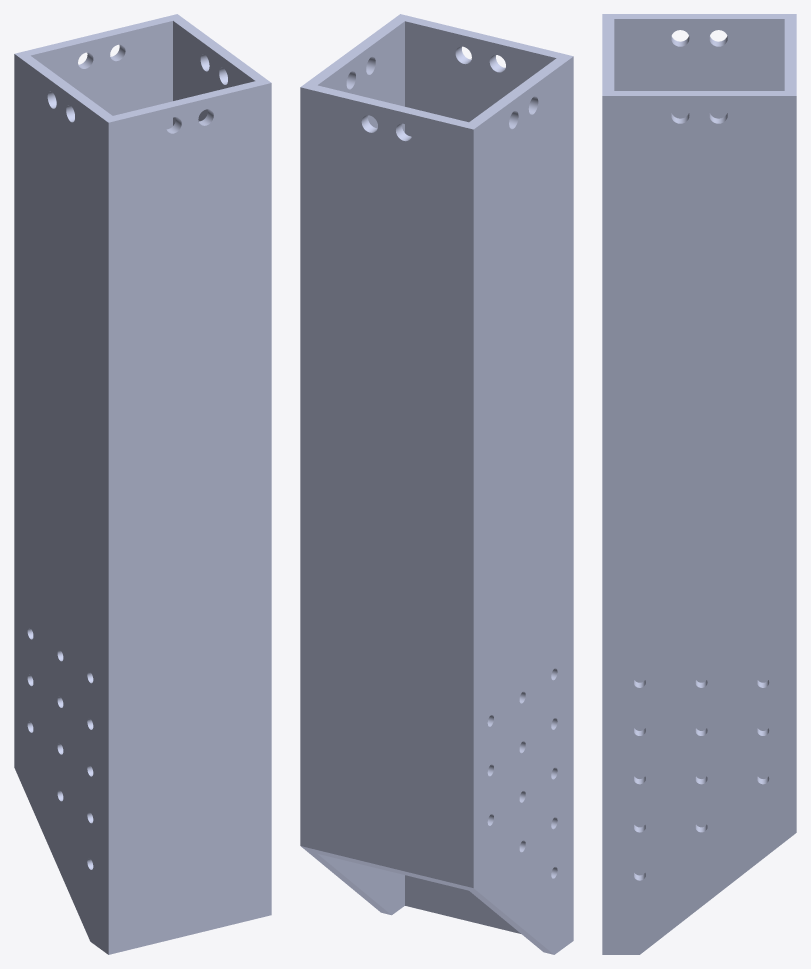
The picture shows the model from 3 angles, left to right: view 1: azimuth 30°, elevation 25°; view 2: azimuth 150°, elevation 25°; view 3: azimuth 270°, elevation 25°; orthographic projection. The views are drawn at different scales.
Parts seen in each view (by area): view 1: Actor0; view 2: Actor0; view 3: Actor0.
Part boxes in pixels (x1,y1,x2,y2): Actor0: (14, 14, 271, 954); Actor0: (300, 14, 573, 954); Actor0: (602, 14, 796, 954).
Size of the model in its own units: 0.1016 by 0.4953 by 0.1016.
